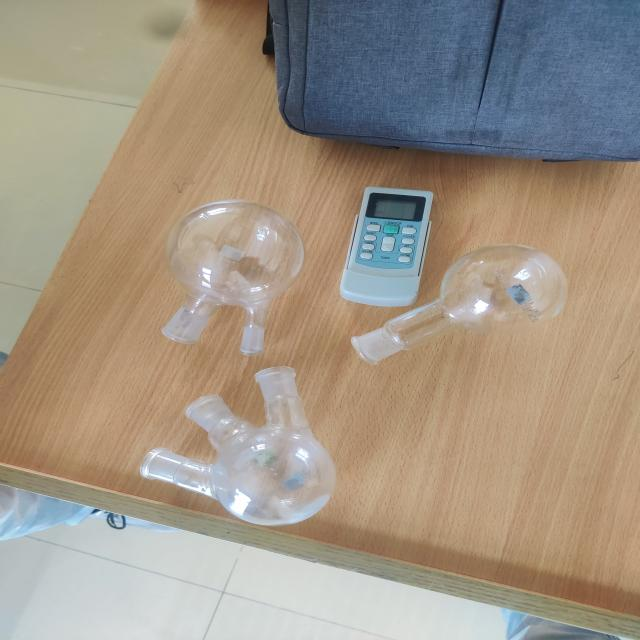Round_Bottom_Flask_Borosilicate_Glass_1_Neck: (346, 215, 584, 373)
Round_Bottom_Flask_Borosilicate_Glass_2_Neck: (137, 184, 326, 364)
Round_Bottom_Flask_Borosilicate_Glass_3_Neck: (107, 357, 355, 547)
